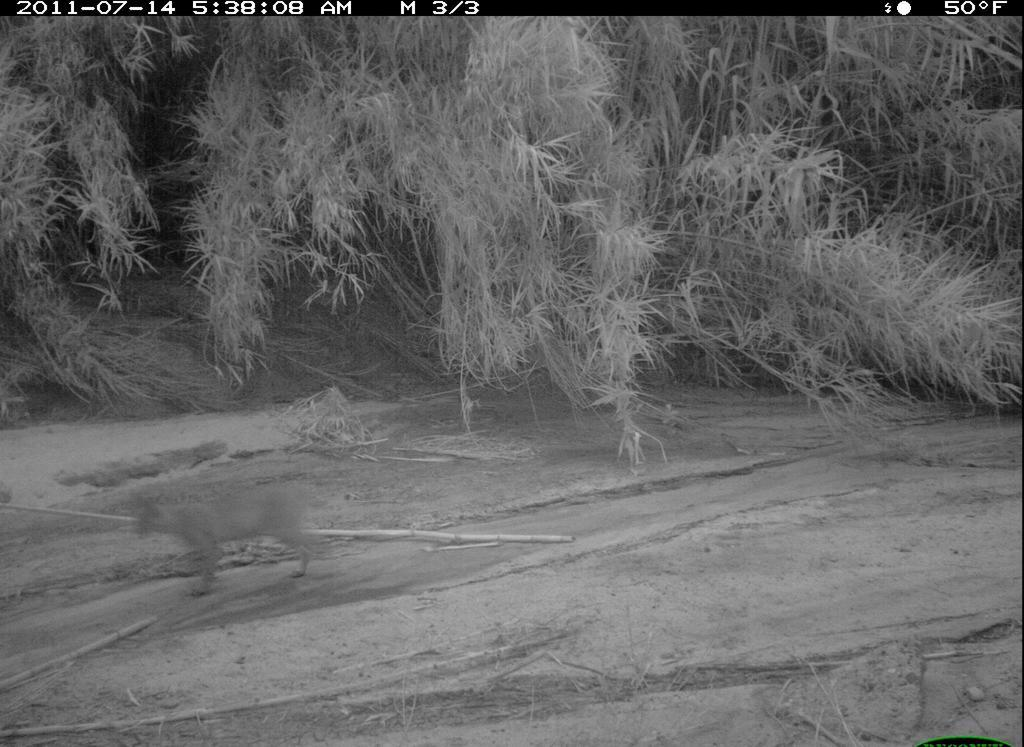bobcat: (126, 475, 332, 603)
